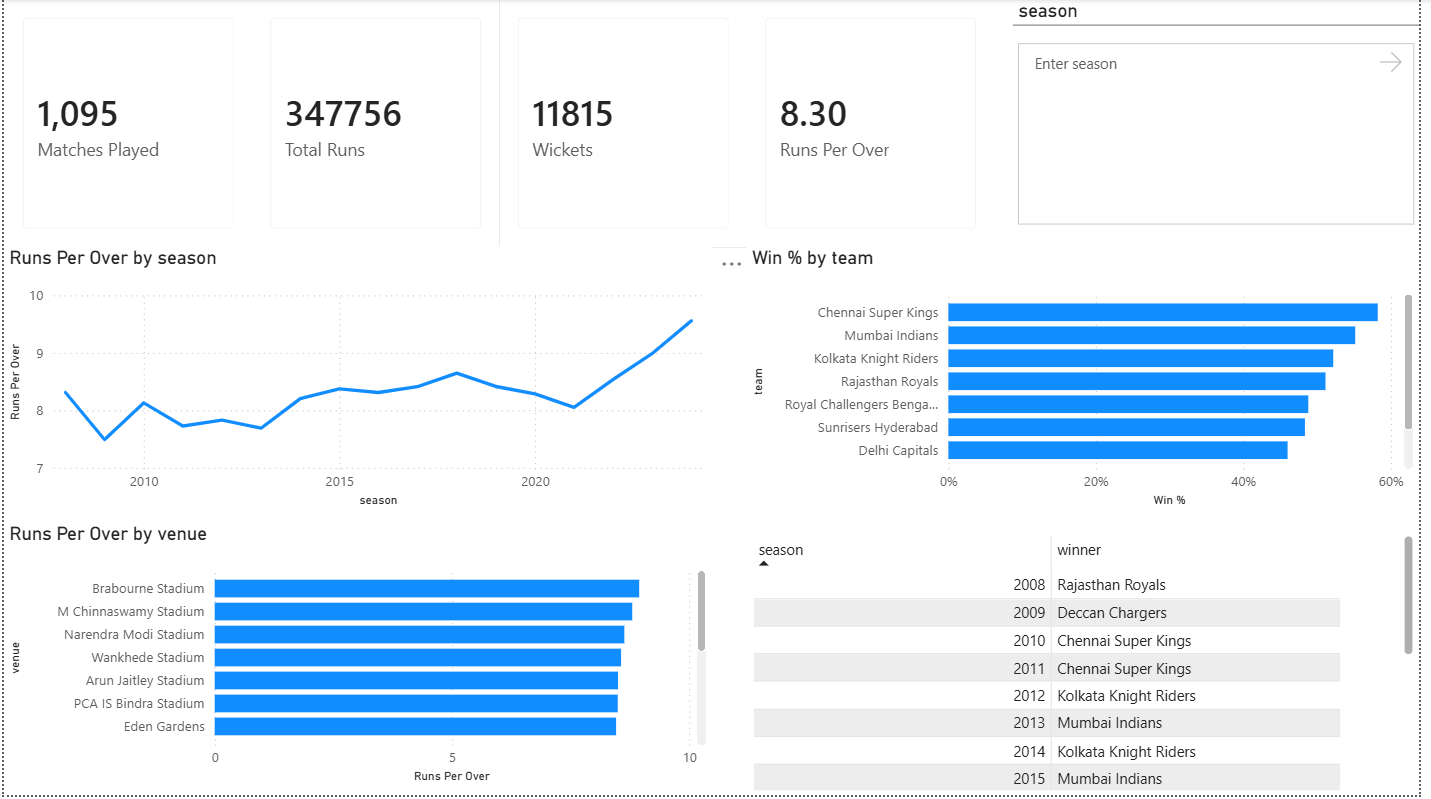

The page's visual inventory and layout, read from the dashboard file:
{"tool":"powerbi","page":{"name":"Overview","canvas":[1280,720],"ordinal":0},"visuals":[{"type":"cardVisual","fields":{"Data":["matches.Matches Played"]},"box":[0,0,225,225],"z":0},{"type":"cardVisual","fields":{"Data":["matches.Total Runs"]},"box":[224,0,225,225],"z":1000},{"type":"cardVisual","fields":{"Data":["matches.Wickets"]},"box":[448,0,225,225],"z":2000},{"type":"cardVisual","fields":{"Data":["matches.Runs Per Over"]},"box":[672,0,225,225],"z":3000},{"type":"textSlicer","fields":{"Values":["matches.season"]},"box":[912,0,368,208],"z":4000},{"type":"lineChart","fields":{"Category":["matches.season"],"Y":["matches.Runs Per Over"]},"box":[0,224,640,240],"z":5000},{"type":"clusteredBarChart","fields":{"Category":["team_results.team"],"Y":["matches.Win %"]},"box":[672,224,608,240],"z":6000},{"type":"clusteredBarChart","fields":{"Category":["matches.venue"],"Y":["matches.Runs Per Over"]},"box":[0,474,640,240],"z":7000},{"type":"tableEx","fields":{"Values":["matches.season","matches.winner"]},"box":[672,480,608,240],"z":8000}]}

Visuals, with their boxes in screenshot pixels (x1, y1, x2, y2), scaled from the page's 1280x720 canvas onto the 1431x799 screenshot:
cardVisual - matches.Matches Played: (x1=0, y1=0, x2=252, y2=250)
cardVisual - matches.Total Runs: (x1=250, y1=0, x2=502, y2=250)
cardVisual - matches.Wickets: (x1=501, y1=0, x2=752, y2=250)
cardVisual - matches.Runs Per Over: (x1=751, y1=0, x2=1003, y2=250)
textSlicer - matches.season: (x1=1020, y1=0, x2=1430, y2=231)
lineChart - matches.season x matches.Runs Per Over: (x1=0, y1=249, x2=716, y2=515)
clusteredBarChart - team_results.team x matches.Win %: (x1=751, y1=249, x2=1430, y2=515)
clusteredBarChart - matches.venue x matches.Runs Per Over: (x1=0, y1=526, x2=716, y2=792)
tableEx - matches.season x matches.winner: (x1=751, y1=533, x2=1430, y2=798)
